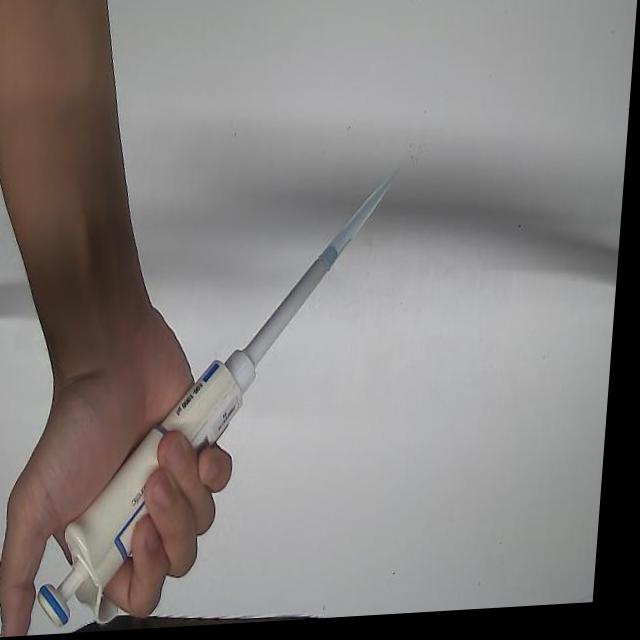Single Channel Pipettor: (44, 248, 342, 630)
